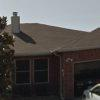Chimney: (7, 8, 30, 36)
